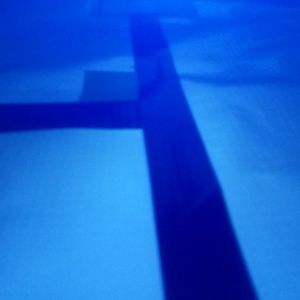bottom_left: (90, 1, 155, 18)
bottom_right: (129, 1, 198, 17)
top_left: (83, 70, 174, 128)
